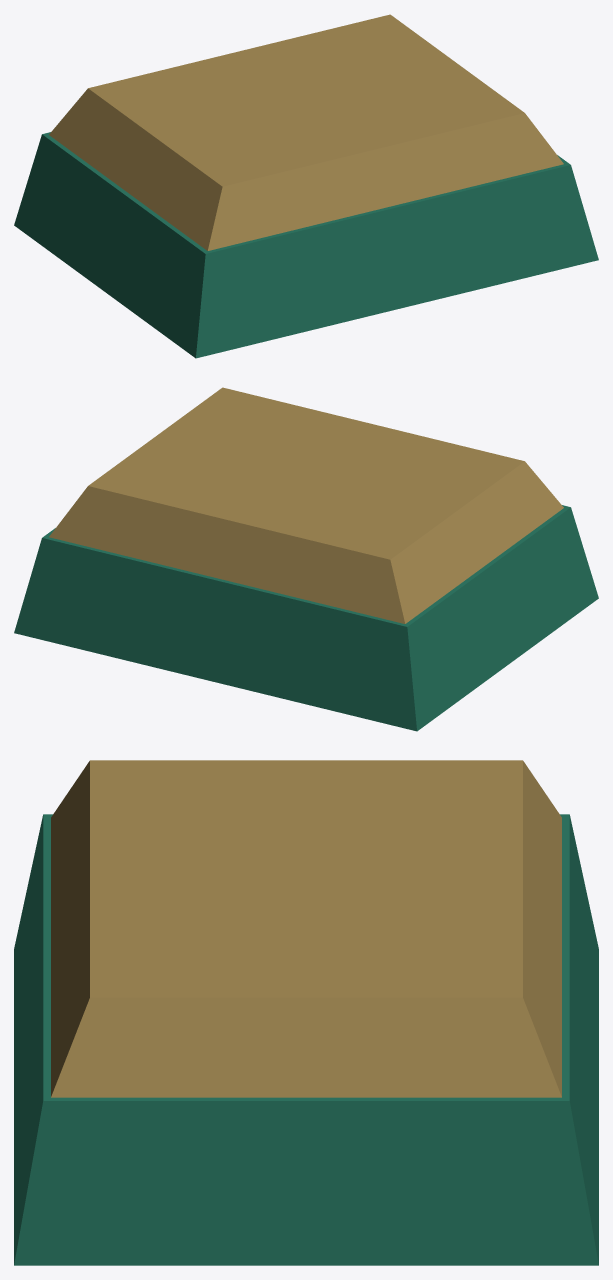
File: square_bevel.obj
3 views of the same model, one above another, from view 1: azimuth 30°, elevation 25°; view 2: azimuth 150°, elevation 25°; view 3: azimuth 270°, elevation 25° (orthographic). The views are drawn at different scales.
Parts seen in each view (by area): view 1: square_step, square_base; view 2: square_step, square_base; view 3: square_step, square_base.
Boxes of the visible parts, box(x1,y1,x2,y2) form: square_step: box(49, 14, 563, 250); square_base: box(14, 132, 598, 358); square_step: box(49, 387, 563, 623); square_base: box(14, 505, 598, 731); square_step: box(51, 760, 561, 1097); square_base: box(14, 814, 598, 1265).
Size of the model in its own units: 0.9051 by 0.305 by 0.7071.
